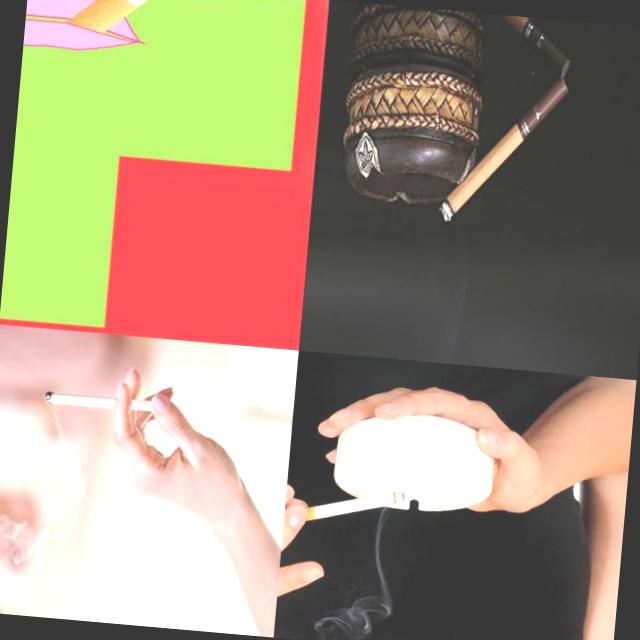smoke: (36, 390, 268, 512), (432, 63, 569, 236), (68, 0, 303, 52), (282, 480, 408, 536)
